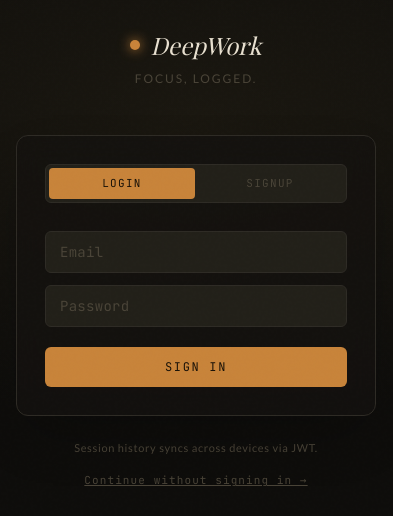
Test case: AuthUI (AuthScreen Component) › should display error if trying to submit empty form
Click the button "SIGN IN" at (196, 367), box [45,347,347,387]
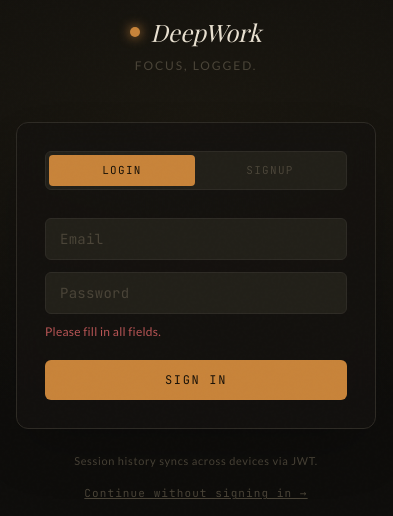
Now the text "Please fill in all fields." is shown, box [45,324,161,339]
